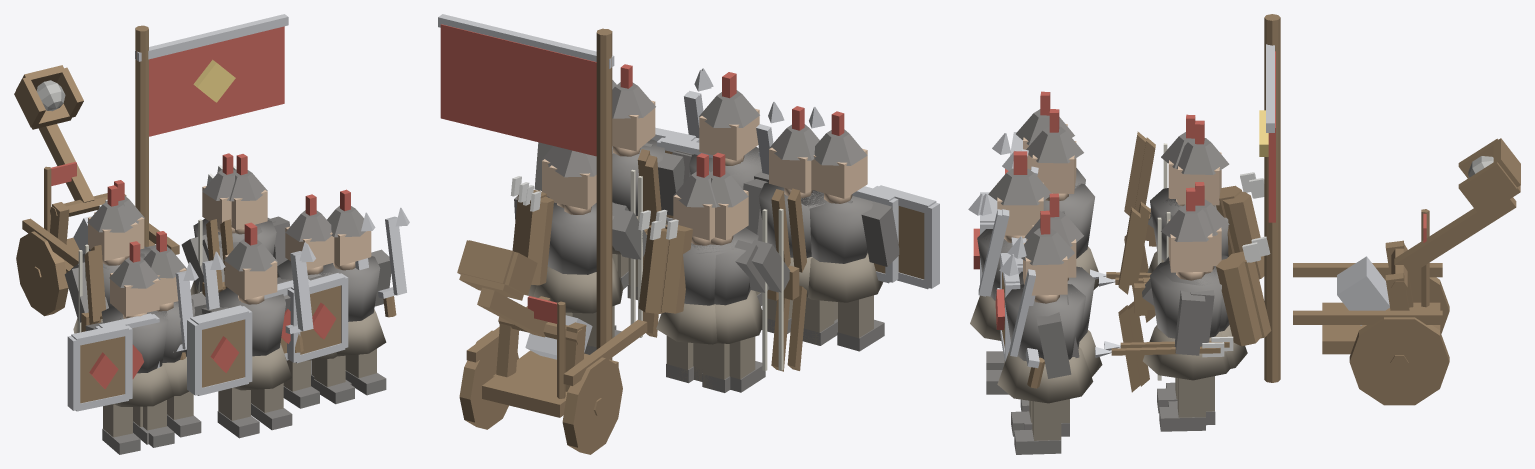
Rendered from troop-army-group.glb.
3 renders of one model, left to right at view 1: azimuth 30°, elevation 25°; view 2: azimuth 150°, elevation 25°; view 3: azimuth 270°, elevation 25°, orthographic. The views are drawn at different scales.
Parts seen in each view (by area): view 1: army_group_command_flag, siege_wheel_l, army_group_command_flag_pole, front_l_shield, front_c_shield, army_group_command_flag_trim, front_c_body, front_r_body, front_l_body, front_r_shield, front_c_head, front_l_skirt (+74 smaller); view 2: army_group_command_flag, army_group_command_flag_pole, siege_wheel_l, front_l_body, siege_body, move_archer_r_body, front_l_skirt, move_archer_r_skirt, move_archer_r_quiver, siege_wheel_r, move_archer_l_quiver, archer_l_body (+65 smaller); view 3: siege_wheel_r, army_group_command_flag_pole, front_r_body, archer_r_quiver, front_r_skirt, siege_arm, archer_r_body, siege_arm_weight, archer_r_skirt, siege_rail_r, move_archer_l_quiver, siege_arm_basket_r (+46 smaller).
Part boxes in pixels (left/top/right/bottom): army_group_command_flag: left=149, top=26, right=284, bottom=136; siege_wheel_l: left=16, top=231, right=68, bottom=316; army_group_command_flag_pole: left=135, top=25, right=148, bottom=246; front_l_shield: left=80, top=336, right=124, bottom=403; front_c_shield: left=202, top=319, right=244, bottom=387; army_group_command_flag_trim: left=135, top=14, right=288, bottom=61; front_c_body: left=221, top=294, right=285, bottom=356; front_r_body: left=319, top=256, right=380, bottom=321; front_l_body: left=101, top=306, right=168, bottom=373; front_r_shield: left=300, top=285, right=341, bottom=354; front_c_head: left=226, top=261, right=277, bottom=299; front_l_skirt: left=113, top=363, right=173, bottom=406; army_group_command_flag: left=440, top=24, right=596, bottom=156; army_group_command_flag_pole: left=596, top=28, right=612, bottom=360; siege_wheel_l: left=562, top=357, right=622, bottom=454; front_l_body: left=801, top=190, right=873, bottom=263; siege_body: left=482, top=350, right=618, bottom=417; move_archer_r_body: left=547, top=202, right=614, bottom=274; front_l_skirt: left=807, top=253, right=883, bottom=302; move_archer_r_skirt: left=533, top=258, right=623, bottom=313; move_archer_r_quiver: left=518, top=182, right=553, bottom=285; siege_wheel_r: left=459, top=330, right=518, bottom=429; move_archer_l_quiver: left=638, top=210, right=669, bottom=313; archer_l_body: left=691, top=227, right=758, bottom=305; siege_wheel_r: left=1349, top=317, right=1449, bottom=405; army_group_command_flag_pole: left=1264, top=14, right=1280, bottom=382; front_r_body: left=1004, top=284, right=1085, bottom=361; archer_r_quiver: left=1216, top=242, right=1261, bottom=346; front_r_skirt: left=997, top=347, right=1093, bottom=403; siege_arm: left=1394, top=197, right=1516, bottom=275; archer_r_body: left=1150, top=261, right=1222, bottom=338; siege_arm_weight: left=1337, top=256, right=1389, bottom=325; archer_r_skirt: left=1143, top=325, right=1230, bottom=380; siege_rail_r: left=1293, top=310, right=1442, bottom=324; move_archer_l_quiver: left=1222, top=178, right=1264, bottom=279; siege_arm_basket_r: left=1458, top=162, right=1517, bottom=213.
Size of the model in its own units: 0.4962 by 0.44 by 0.6086.
